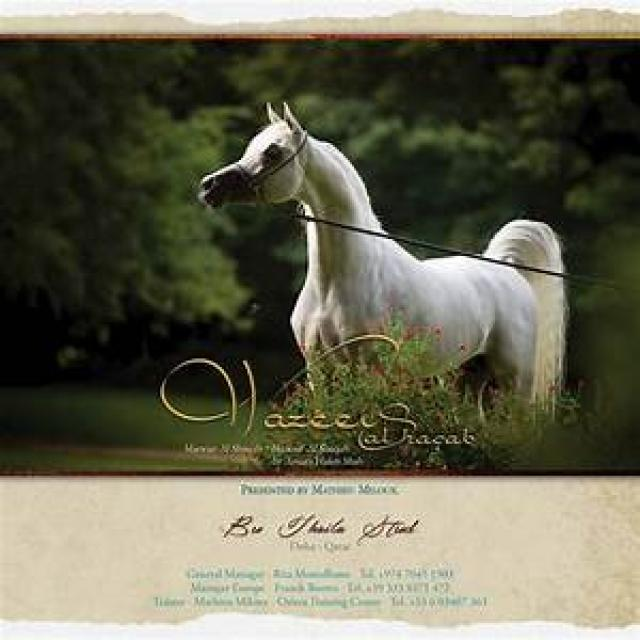horse: (198, 102, 567, 401)
